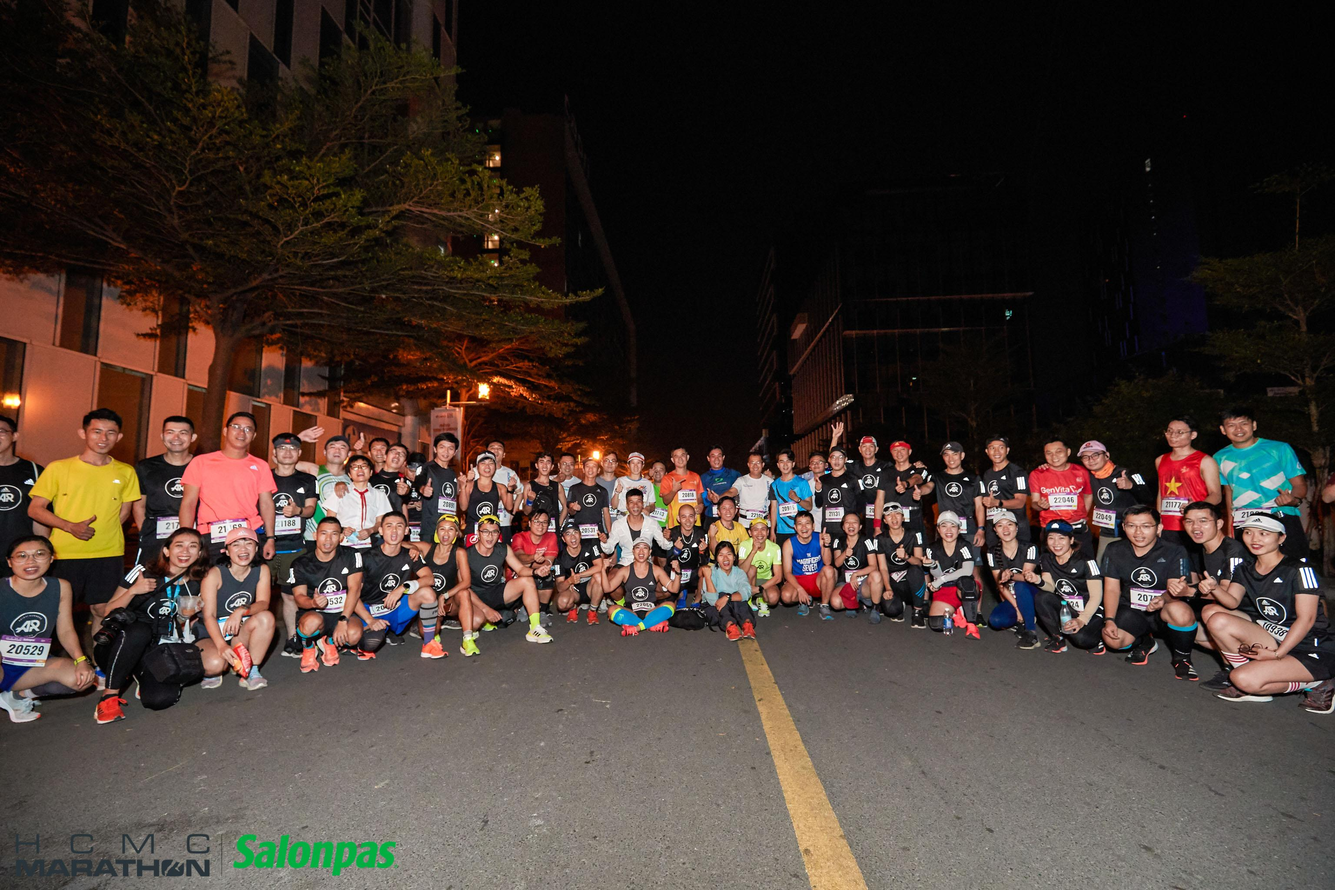bib: (0, 635, 51, 668), (1129, 585, 1167, 612), (1255, 616, 1289, 642), (211, 521, 248, 543), (1232, 506, 1270, 525), (339, 532, 373, 549), (322, 589, 345, 613), (272, 515, 301, 534), (156, 516, 181, 538), (1160, 496, 1187, 515), (1048, 494, 1078, 511), (1093, 507, 1116, 529), (1060, 594, 1085, 613), (437, 496, 458, 516), (576, 523, 599, 539), (824, 507, 846, 523), (369, 603, 394, 615), (677, 490, 699, 503), (777, 505, 799, 518), (649, 508, 668, 523), (671, 569, 691, 583), (986, 504, 1006, 518), (632, 601, 655, 611), (409, 526, 422, 542), (747, 511, 765, 521), (866, 505, 874, 519)
